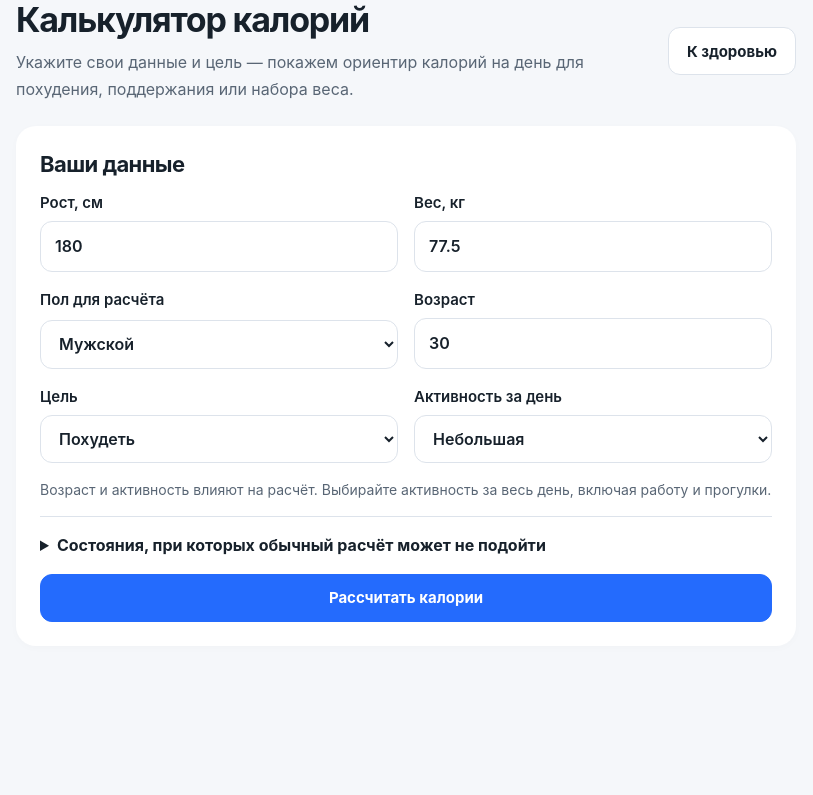
Test case: calculator preserves saved preferences and accepts a logged weight link
This screenshot has width=813, height=795.
Expected: the number field labelled "Вес, кг" holds "77.5", left=414, top=221, right=772, bottom=272
Step 1. Click the button "Рассчитать калории" → (406, 598), box left=40, top=574, right=772, bottom=622
(page scrolled)
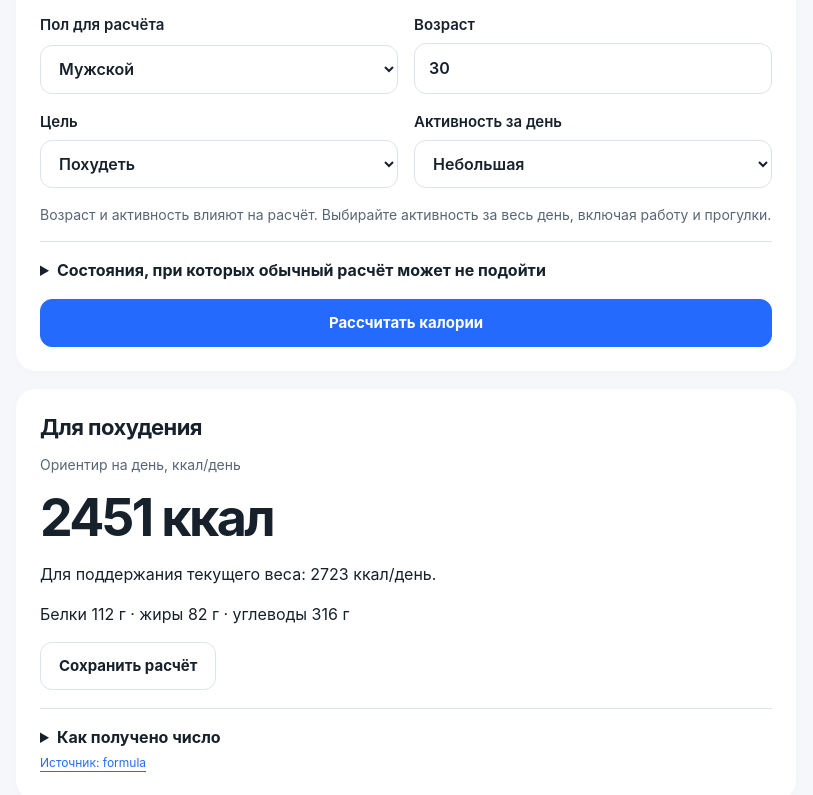
Result: the text "2451 ккал" is shown at left=40, top=486, right=273, bottom=548
Step 2. Click the button "Сохранить расчёт" → (128, 666), box left=40, top=642, right=216, bottom=690
(page scrolled)
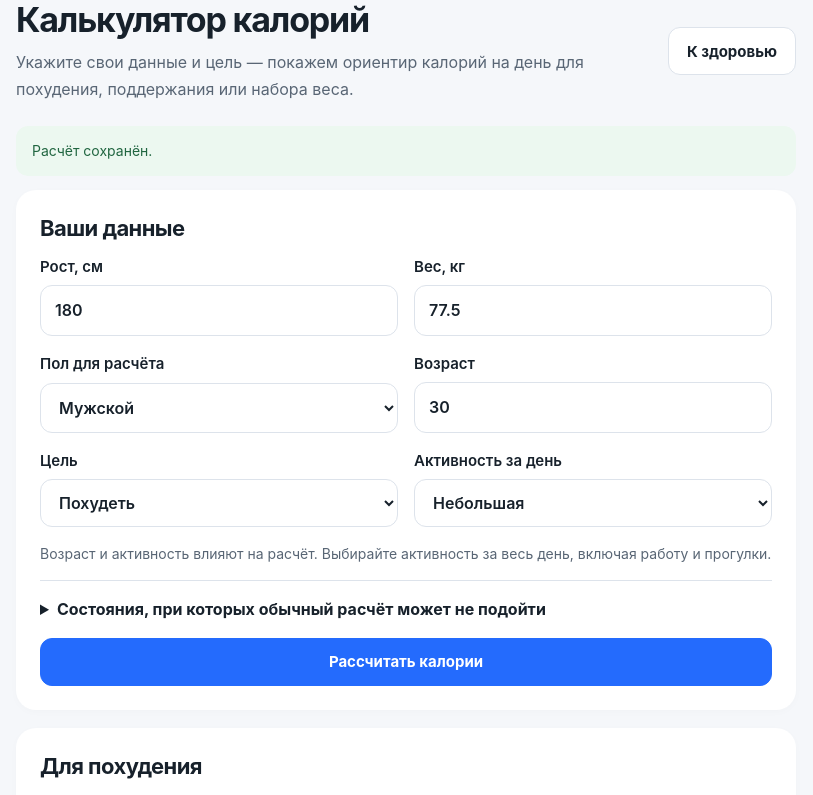
Result: the text "Расчёт сохранён." is shown at left=16, top=126, right=796, bottom=176
